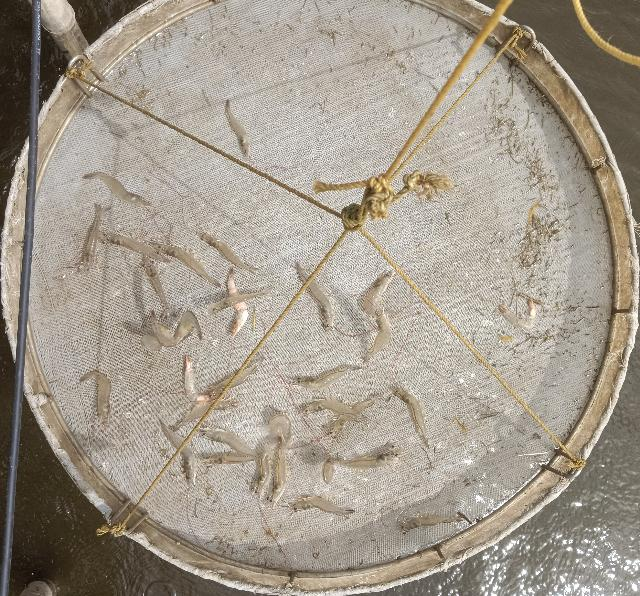shrimp: (150, 243, 219, 286), (76, 202, 115, 278), (196, 229, 258, 276), (205, 355, 265, 401), (296, 263, 333, 335), (83, 172, 155, 208), (330, 392, 384, 439), (391, 387, 430, 450), (159, 418, 196, 483), (99, 233, 174, 264), (142, 256, 178, 319), (206, 287, 274, 318), (173, 401, 240, 431), (333, 445, 405, 471), (80, 371, 111, 430), (300, 399, 371, 423), (363, 269, 398, 317), (292, 366, 365, 389), (185, 355, 219, 404), (361, 309, 392, 362), (227, 267, 248, 339), (225, 99, 250, 159), (264, 441, 287, 506), (249, 444, 275, 498), (494, 299, 537, 330), (288, 497, 355, 516), (396, 515, 464, 532), (267, 415, 292, 449), (200, 455, 259, 469), (321, 457, 337, 486)
